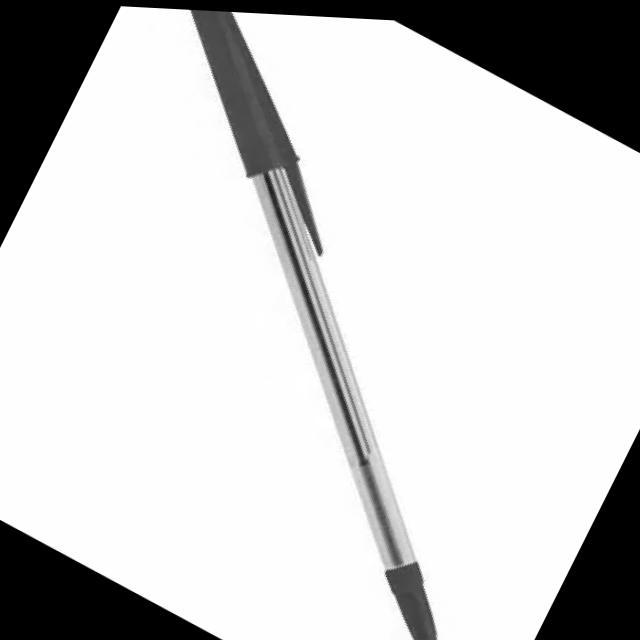pencil: (183, 9, 455, 637)
